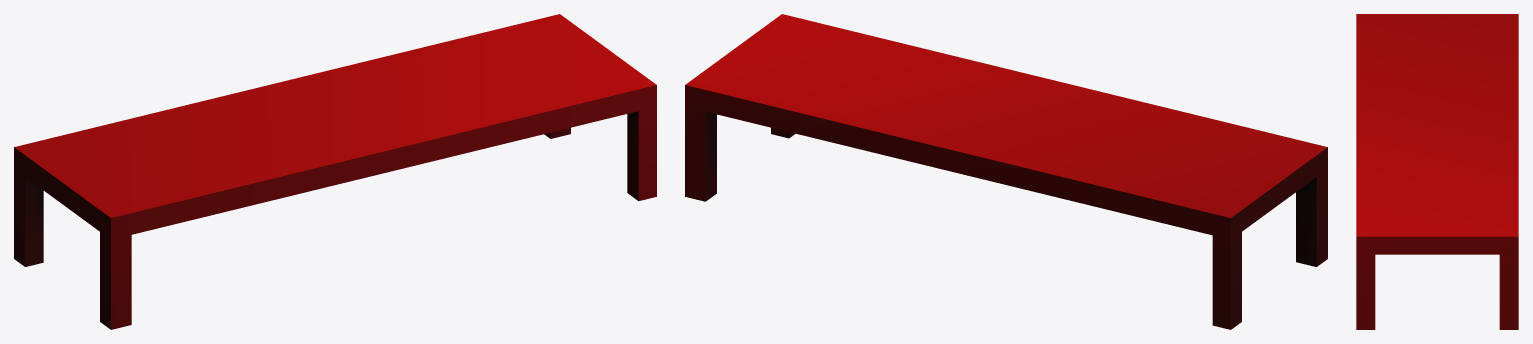
The model's file is BasicConcreteBench.glb.
3 renders of one model, left to right at view 1: azimuth 30°, elevation 25°; view 2: azimuth 150°, elevation 25°; view 3: azimuth 270°, elevation 25°, orthographic. The views are drawn at different scales.
Parts seen in each view (by area): view 1: BasicConcreteBench; view 2: BasicConcreteBench; view 3: BasicConcreteBench.
Boxes of the visible parts, <box> form: BasicConcreteBench: <box>14,14,656,329</box>; BasicConcreteBench: <box>685,14,1327,329</box>; BasicConcreteBench: <box>1356,14,1518,329</box>.
Size of the model in its own units: 12.63 by 2.47 by 3.88.
